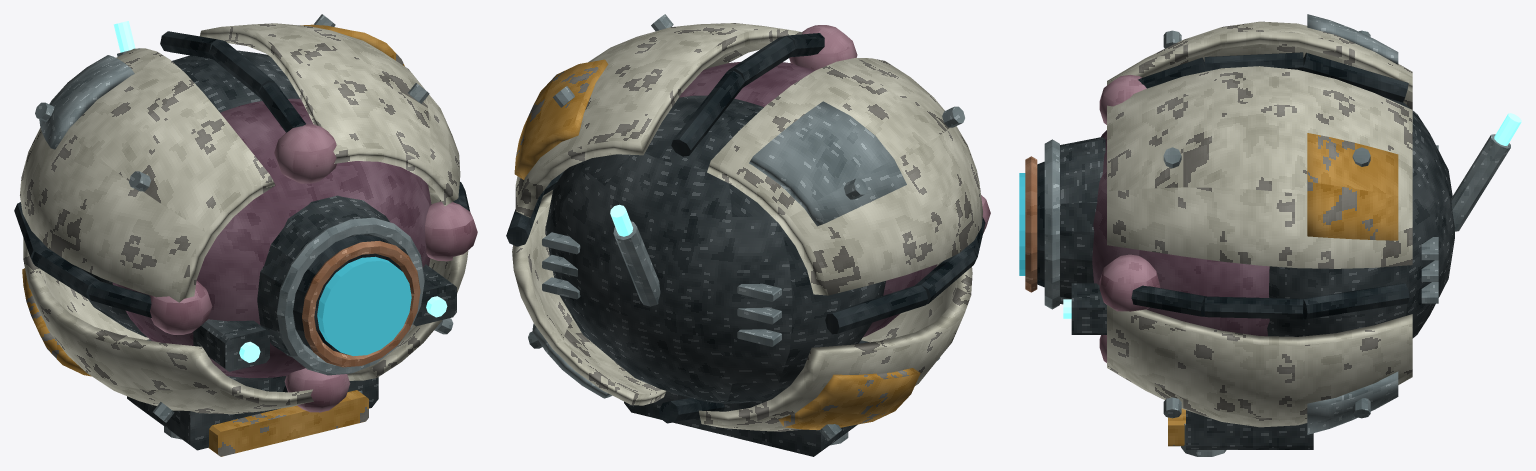
File: mender_carapace.glb
The picture shows the model from 3 angles, left to right: view 1: azimuth 30°, elevation 25°; view 2: azimuth 150°, elevation 25°; view 3: azimuth 270°, elevation 25°; orthographic projection. The views are drawn at different scales.
Visible parts, largest first — view 1: mender_carapace; view 2: mender_carapace; view 3: mender_carapace.
Boxes of the visible parts, x1=… form: mender_carapace: x1=14, y1=14, x2=477, y2=456; mender_carapace: x1=506, y1=14, x2=990, y2=456; mender_carapace: x1=1019, y1=14, x2=1521, y2=456.
Bounding box in the file's own units: 0.4665 × 0.4002 × 0.5037.
Materials: 10 (8 with a texture image).
